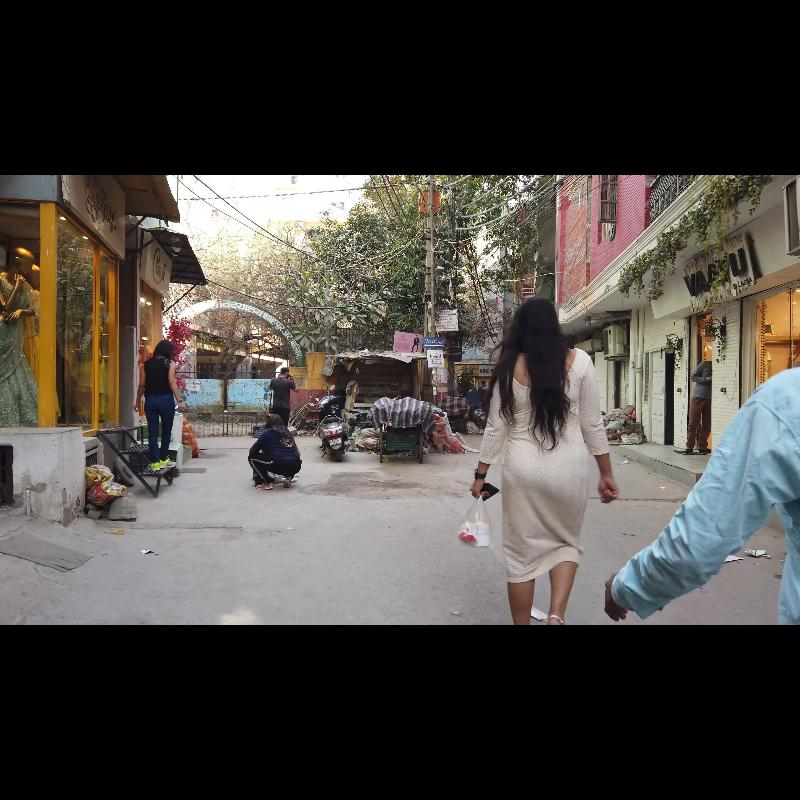Jeans: (144, 395, 174, 462)
Kurta: (475, 347, 615, 577)
Tshirt: (144, 356, 171, 395)
